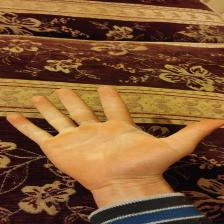five: (10, 86, 220, 178)
